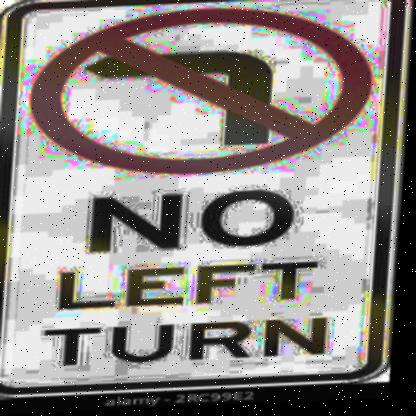No left turn: (15, 0, 394, 182)
